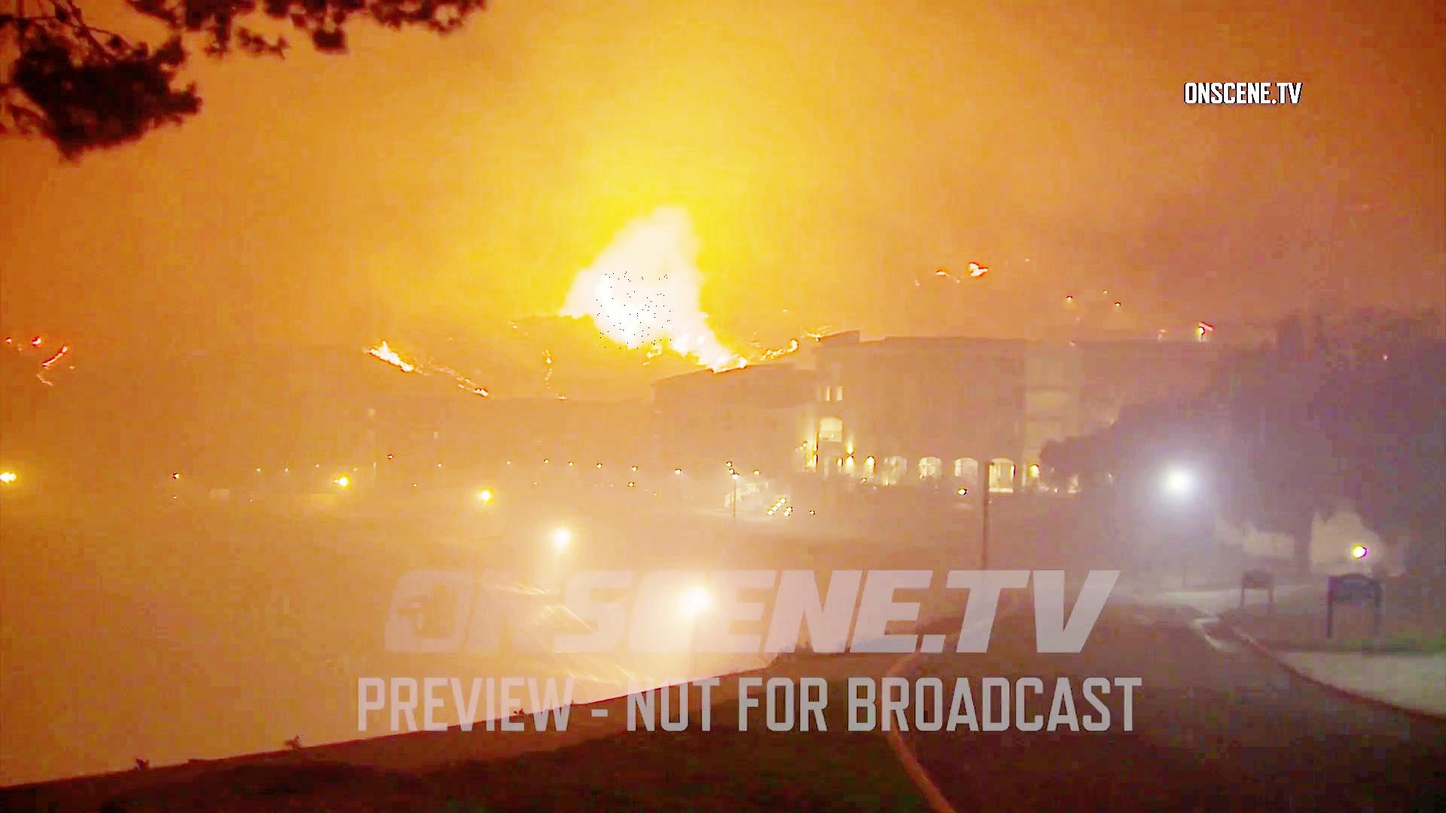fire: (593, 271, 673, 349)
